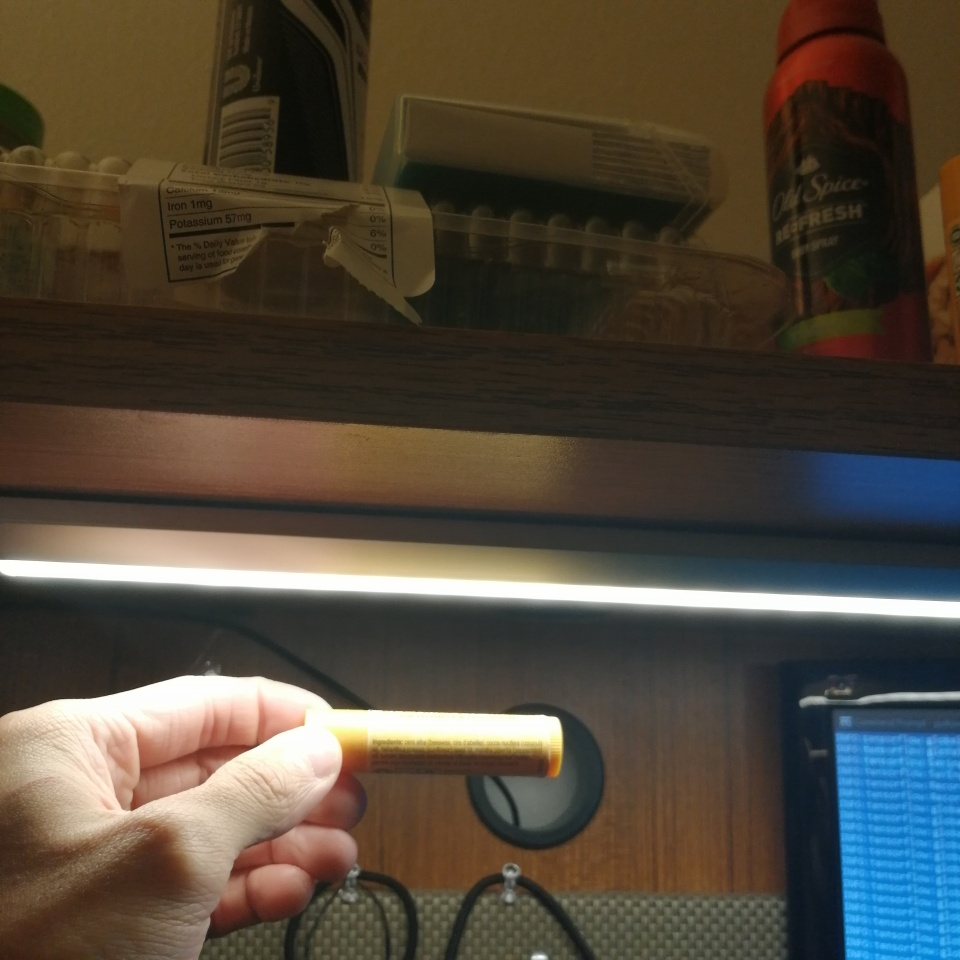chapstick: (304, 705, 566, 780)
